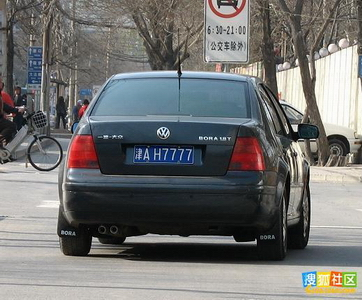plate_number: (132, 144, 196, 164)
